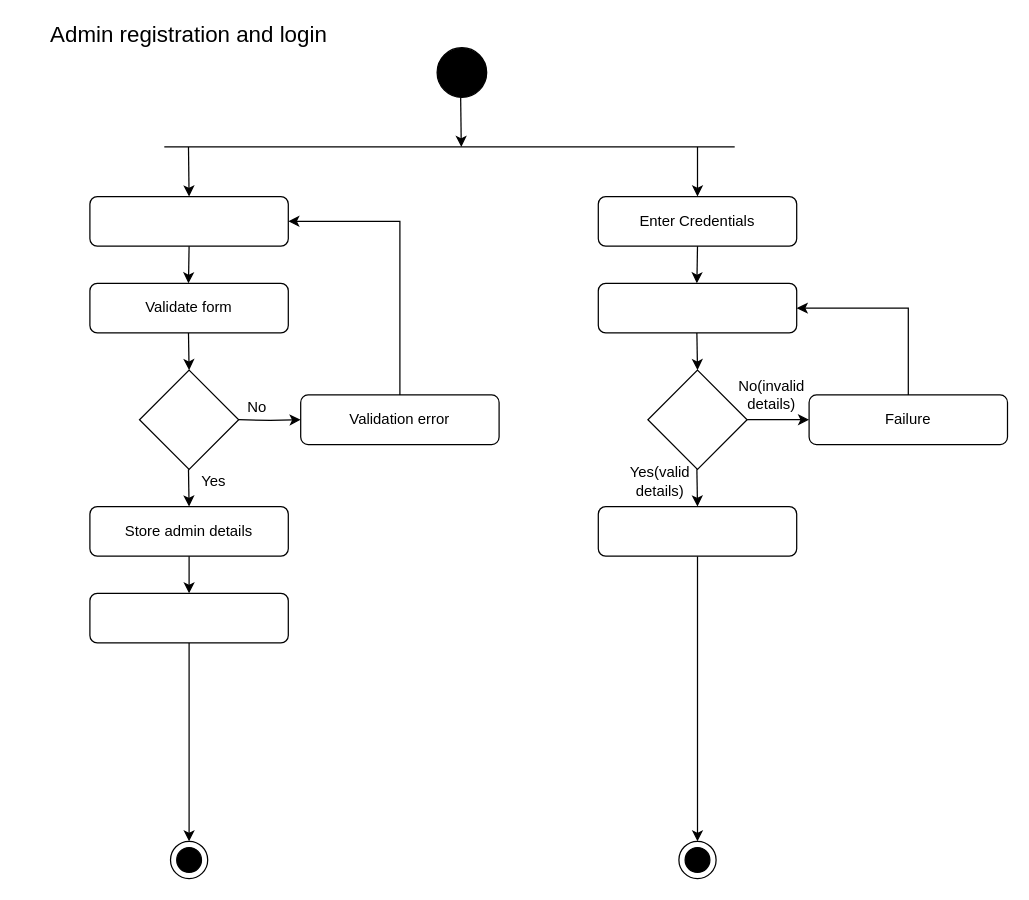
Some shapes in this 1029 by 900 pixel diagram are drawn without their labels. The centre of each missing label's shape, as x and y in pixels:
"Add admin details" belongs at (188,220).
"Login to system" belongs at (697,530).
"Notify success" belongs at (188,617).
"Validate" belongs at (697,307).
